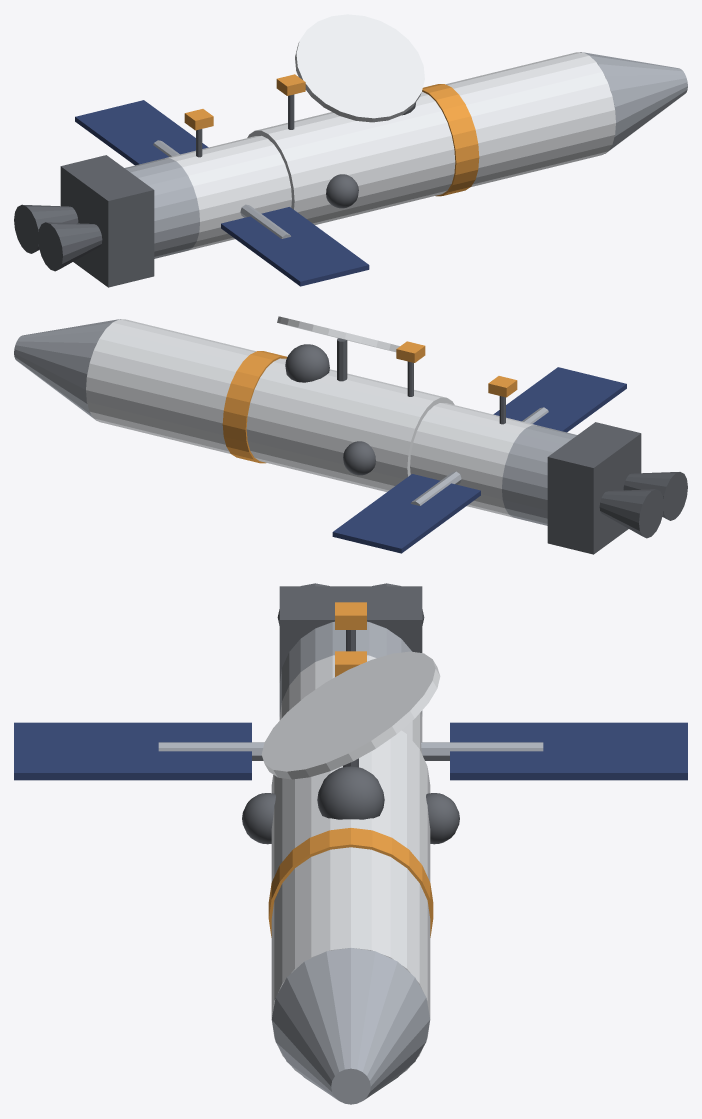
File: kepler.glb
The picture shows the model from 3 angles, top to bottom: view 1: azimuth 30°, elevation 25°; view 2: azimuth 150°, elevation 25°; view 3: azimuth 270°, elevation 25°; orthographic projection. The views are drawn at different scales.
Parts seen in each view (by area): view 1: kepler_mid_hull, kepler_fwd_hull, kepler_dish, kepler_engine, kepler_aft_hull, kepler_solar_1, kepler_nose, kepler_solar_0, kepler_aft_link, kepler_collar, kepler_nozzle_1, kepler_nozzle_0 (+4 smaller); view 2: kepler_mid_hull, kepler_fwd_hull, kepler_engine, kepler_aft_hull, kepler_solar_0, kepler_nose, kepler_solar_1, kepler_aft_link, kepler_collar, kepler_nozzle_0, kepler_nozzle_1, kepler_dome_top (+6 smaller); view 3: kepler_nose, kepler_fwd_hull, kepler_solar_0, kepler_solar_1, kepler_dish, kepler_mid_hull, kepler_engine, kepler_collar, kepler_aft_link, kepler_dome_top, kepler_aft_hull, kepler_solar_spar_0 (+4 smaller).
Part boxes in pixels (x1=…): kepler_mid_hull: x1=247, y1=91, x2=455, y2=224; kepler_fwd_hull: x1=446, y1=52, x2=615, y2=186; kepler_dish: x1=295, y1=14, x2=424, y2=122; kepler_engine: x1=60, y1=155, x2=154, y2=287; kepler_aft_hull: x1=165, y1=135, x2=291, y2=250; kepler_solar_1: x1=221, y1=207, x2=369, y2=286; kepler_nose: x1=580, y1=52, x2=687, y2=153; kepler_solar_0: x1=75, y1=100, x2=208, y2=165; kepler_aft_link: x1=124, y1=158, x2=199, y2=258; kepler_collar: x1=422, y1=84, x2=479, y2=196; kepler_nozzle_1: x1=38, y1=222, x2=102, y2=271; kepler_nozzle_0: x1=14, y1=204, x2=78, y2=253; kepler_mid_hull: x1=246, y1=358, x2=454, y2=491; kepler_fwd_hull: x1=86, y1=319, x2=255, y2=453; kepler_engine: x1=547, y1=422, x2=641, y2=554; kepler_aft_hull: x1=410, y1=403, x2=536, y2=517; kepler_solar_0: x1=332, y1=474, x2=480, y2=553; kepler_nose: x1=14, y1=319, x2=120, y2=420; kepler_solar_1: x1=493, y1=367, x2=626, y2=432; kepler_aft_link: x1=502, y1=425, x2=577, y2=525; kepler_collar: x1=222, y1=351, x2=287, y2=463; kepler_nozzle_0: x1=599, y1=489, x2=663, y2=538; kepler_nozzle_1: x1=623, y1=472, x2=687, y2=520; kepler_dome_top: x1=285, y1=344, x2=329, y2=382; kepler_nose: x1=271, y1=948, x2=430, y2=1104; kepler_fwd_hull: x1=271, y1=847, x2=430, y2=1073; kepler_solar_0: x1=450, y1=722, x2=687, y2=780; kepler_solar_1: x1=14, y1=722, x2=251, y2=780; kepler_dish: x1=261, y1=651, x2=440, y2=779; kepler_mid_hull: x1=271, y1=730, x2=430, y2=881; kepler_engine: x1=279, y1=586, x2=422, y2=682; kepler_collar: x1=268, y1=828, x2=433, y2=937; kepler_aft_link: x1=279, y1=621, x2=422, y2=716; kepler_dome_top: x1=317, y1=766, x2=384, y2=819; kepler_aft_hull: x1=279, y1=655, x2=422, y2=754; kepler_solar_spar_0: x1=421, y1=742, x2=543, y2=760.
Size of the model in its own units: 56 by 14.37 by 34.
